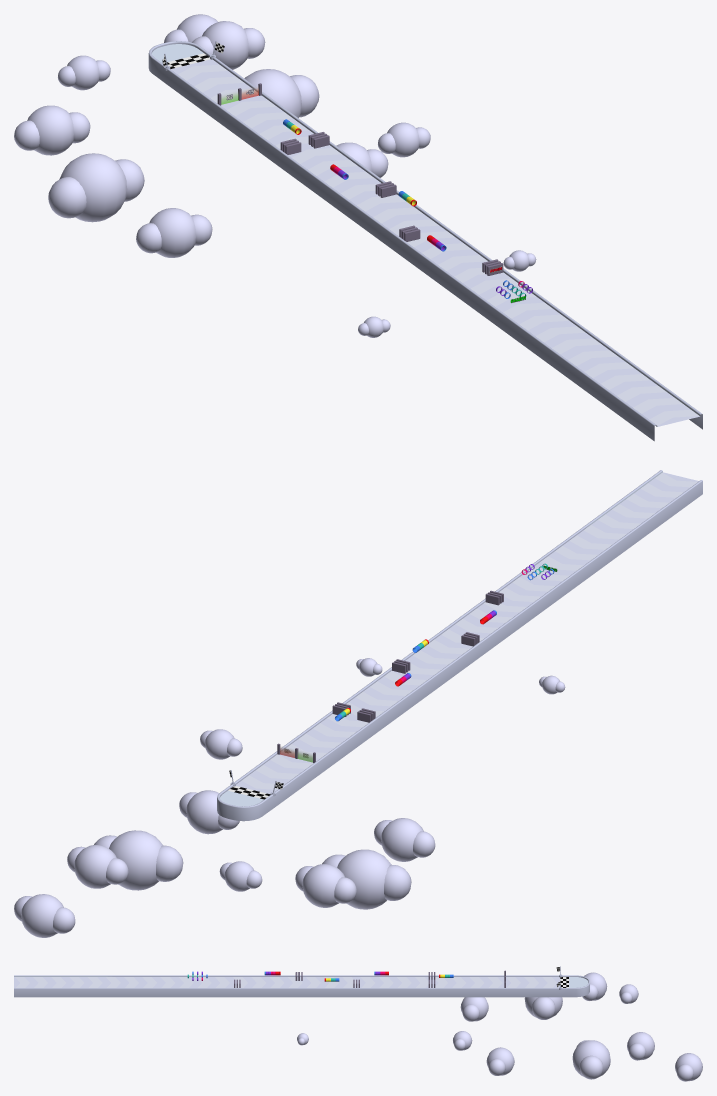
The picture shows the model from 3 angles, top to bottom: view 1: azimuth 30°, elevation 25°; view 2: azimuth 150°, elevation 25°; view 3: azimuth 270°, elevation 25°; orthographic projection. The views are drawn at different scales.
Parts seen in each view (by area): view 1: SM_Platform, SM_Cloud.001, SM_Cloud.003, SM_Cloud, SM_Cloud.007, SM_Cloud.005, SM_Cloud.002, SM_Cloud.006, SM_Cloud.004, SM_Cloud.008; view 2: SM_Platform, SM_Cloud.005, SM_Cloud.001, SM_Cloud.003, SM_Cloud.007, SM_Cloud.008, SM_Cloud, SM_Cloud.004, SM_Cloud.002, SM_Cloud.006; view 3: SM_Platform, SM_Cloud.005, SM_Cloud.001, SM_Cloud.004, SM_Cloud.008, SM_Cloud.007, SM_Cloud, SM_Cloud.003, SM_Cloud.002, SM_Cloud.006.
Boxes of the visible parts, box(x1,y1,x2,y2) form: SM_Platform: box(148, 41, 702, 441); SM_Cloud.001: box(48, 153, 144, 222); SM_Cloud.003: box(14, 105, 90, 155); SM_Cloud: box(136, 208, 212, 257); SM_Cloud.007: box(192, 21, 265, 69); SM_Cloud.005: box(244, 69, 319, 117); SM_Cloud.002: box(58, 55, 110, 90); SM_Cloud.006: box(378, 122, 430, 157); SM_Cloud.004: box(336, 142, 388, 177); SM_Cloud.008: box(164, 14, 225, 42); SM_Platform: box(217, 470, 702, 821); SM_Cloud.005: box(94, 830, 183, 890); SM_Cloud.001: box(322, 849, 411, 909); SM_Cloud.003: box(295, 864, 356, 907); SM_Cloud.007: box(67, 845, 128, 888); SM_Cloud.008: box(14, 894, 75, 937); SM_Cloud: box(374, 818, 435, 861); SM_Cloud.004: box(179, 790, 239, 834); SM_Cloud.002: box(219, 861, 262, 891); SM_Cloud.006: box(200, 729, 242, 759); SM_Platform: box(14, 975, 589, 997); SM_Cloud.005: box(572, 1040, 610, 1079); SM_Cloud.001: box(524, 997, 562, 1019); SM_Cloud.004: box(486, 1047, 514, 1075); SM_Cloud.008: box(675, 1053, 702, 1081); SM_Cloud.007: box(627, 1032, 654, 1060); SM_Cloud: box(460, 997, 488, 1021); SM_Cloud.003: box(582, 972, 607, 1000); SM_Cloud.002: box(619, 984, 638, 1003); SM_Cloud.006: box(453, 1031, 472, 1050).
Size of the model in its own units: 48.04 by 19.28 by 161.
8 materials, 8 textured.
